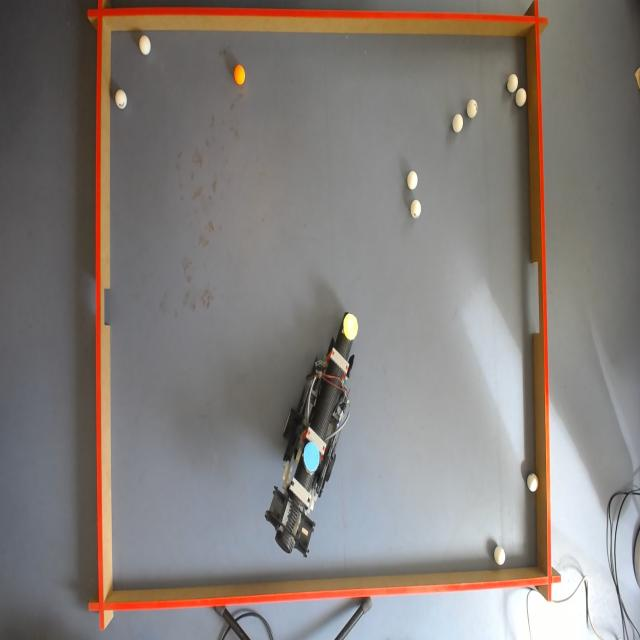orange: (232, 66, 246, 86)
robot: (265, 308, 360, 553)
robot-front: (343, 313, 358, 338)
robot-rear: (305, 435, 320, 474)
white: (495, 544, 508, 568), (508, 73, 521, 95), (116, 89, 130, 109), (138, 37, 151, 58), (451, 114, 463, 135), (528, 473, 540, 493), (515, 89, 527, 108), (407, 170, 418, 188), (410, 201, 423, 216), (469, 99, 479, 116)
